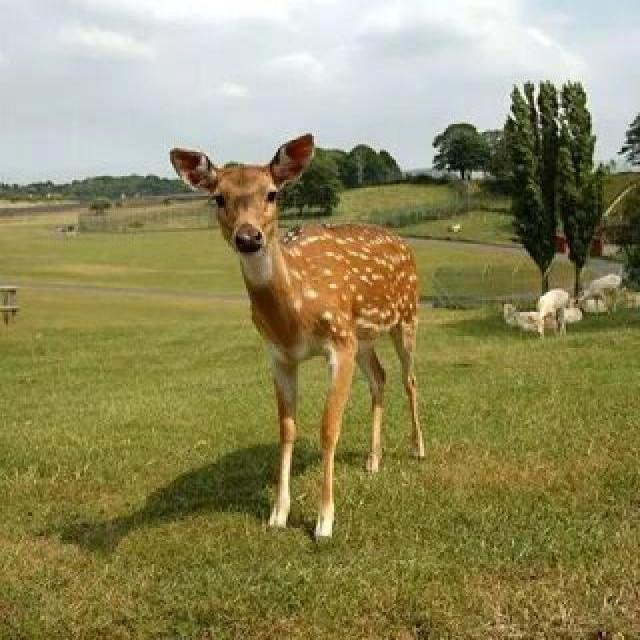deer: (113, 89, 549, 583)
